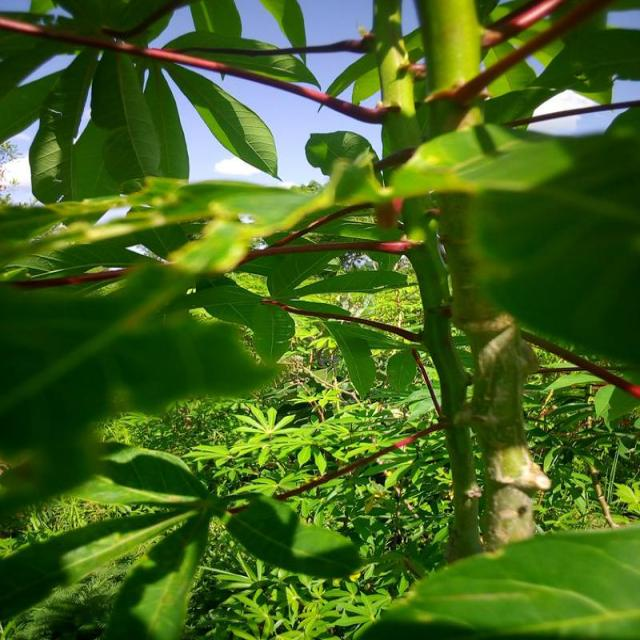cassava leaf: (0, 1, 638, 638), (354, 524, 639, 638), (222, 492, 363, 578)
